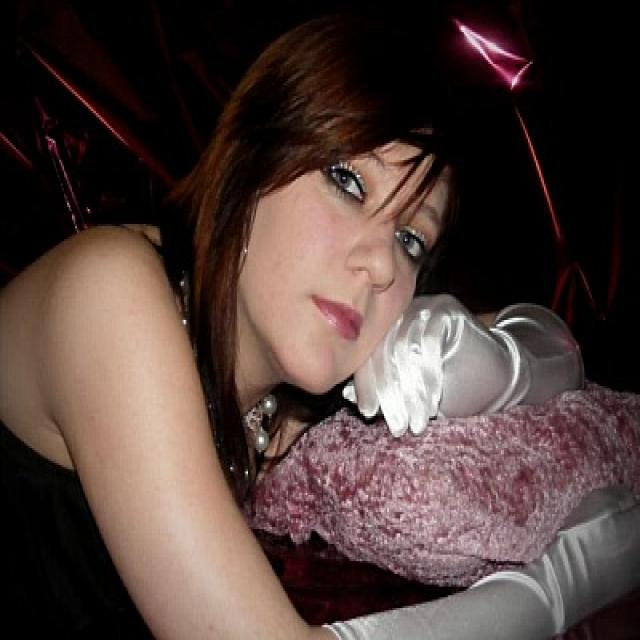Eyes: (315, 137, 433, 274)
